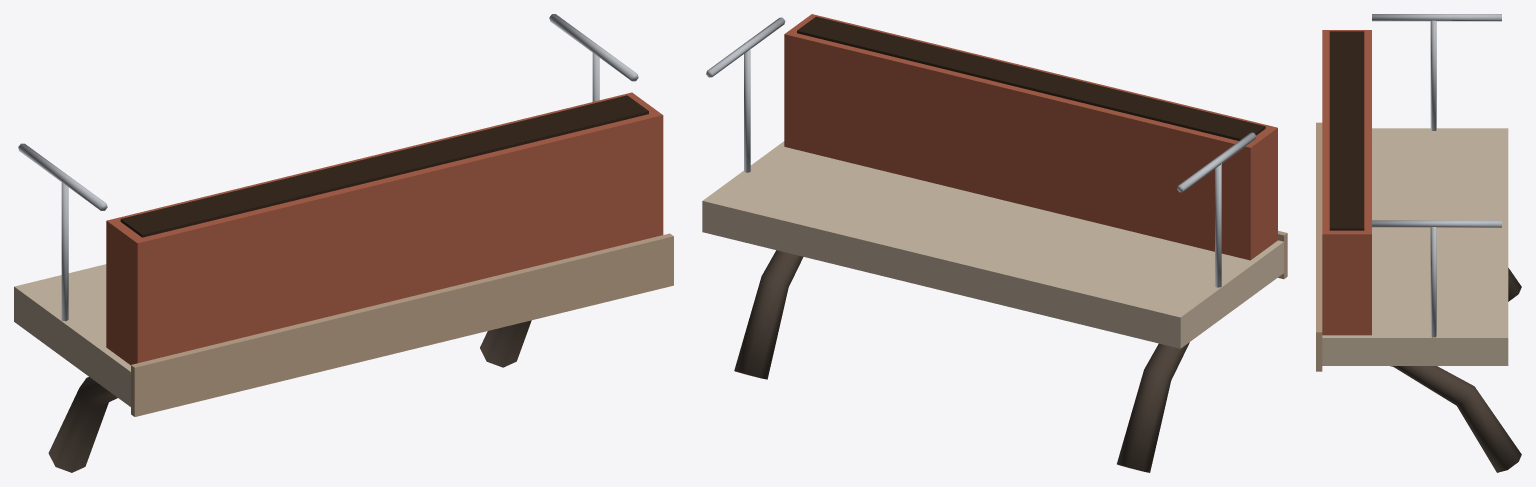
File: city_balcony.glb
3 renders of one model, left to right at view 1: azimuth 30°, elevation 25°; view 2: azimuth 150°, elevation 25°; view 3: azimuth 270°, elevation 25°, orthographic. The views are drawn at different scales.
Visible parts, largest first — view 1: CityBalcony_Trough, CityBalcony_Edge, CityBalcony_TroughSoil, CityBalcony_Slab, CityBalcony_Bracket0.4, CityBalcony_Bracket3.6, CityBalcony_RailPost0.03, CityBalcony_Rail0.03, CityBalcony_Rail3.97; view 2: CityBalcony_Trough, CityBalcony_Slab, CityBalcony_TroughSoil, CityBalcony_Bracket0.4, CityBalcony_Bracket3.6, CityBalcony_RailPost0.03, CityBalcony_RailPost3.97, CityBalcony_Rail0.03, CityBalcony_Rail3.97; view 3: CityBalcony_Slab, CityBalcony_Trough, CityBalcony_TroughSoil, CityBalcony_Bracket3.6, CityBalcony_Edge, CityBalcony_Rail0.03, CityBalcony_Rail3.97, CityBalcony_RailPost0.03, CityBalcony_RailPost3.97, CityBalcony_Bracket0.4.
Boxes of the visible parts, x1=… form: CityBalcony_Trough: x1=106, y1=92, x2=663, y2=365; CityBalcony_Edge: x1=131, y1=233, x2=673, y2=416; CityBalcony_TroughSoil: x1=120, y1=95, x2=648, y2=237; CityBalcony_Slab: x1=14, y1=264, x2=130, y2=406; CityBalcony_Bracket0.4: x1=48, y1=377, x2=117, y2=472; CityBalcony_Bracket3.6: x1=480, y1=320, x2=531, y2=367; CityBalcony_RailPost0.03: x1=61, y1=181, x2=68, y2=321; CityBalcony_Rail0.03: x1=18, y1=143, x2=107, y2=210; CityBalcony_Rail3.97: x1=549, y1=14, x2=638, y2=81; CityBalcony_Trough: x1=784, y1=14, x2=1277, y2=260; CityBalcony_Slab: x1=702, y1=141, x2=1283, y2=348; CityBalcony_TroughSoil: x1=797, y1=16, x2=1265, y2=140; CityBalcony_Bracket0.4: x1=1117, y1=342, x2=1189, y2=472; CityBalcony_Bracket3.6: x1=734, y1=250, x2=803, y2=379; CityBalcony_RailPost0.03: x1=1215, y1=163, x2=1221, y2=287; CityBalcony_RailPost3.97: x1=744, y1=48, x2=750, y2=172; CityBalcony_Rail0.03: x1=1177, y1=132, x2=1256, y2=192; CityBalcony_Rail3.97: x1=706, y1=17, x2=785, y2=77; CityBalcony_Slab: x1=1322, y1=128, x2=1508, y2=365; CityBalcony_Trough: x1=1322, y1=30, x2=1371, y2=335; CityBalcony_TroughSoil: x1=1329, y1=31, x2=1364, y2=230; CityBalcony_Bracket3.6: x1=1390, y1=366, x2=1521, y2=472; CityBalcony_Edge: x1=1316, y1=122, x2=1322, y2=371; CityBalcony_Rail0.03: x1=1372, y1=14, x2=1501, y2=21; CityBalcony_Rail3.97: x1=1372, y1=220, x2=1501, y2=227; CityBalcony_RailPost0.03: x1=1430, y1=20, x2=1436, y2=130; CityBalcony_RailPost3.97: x1=1430, y1=227, x2=1436, y2=337; CityBalcony_Bracket0.4: x1=1508, y1=268, x2=1521, y2=301.
Bounding box in the file's own units: 4 × 2.39 × 1.66.
